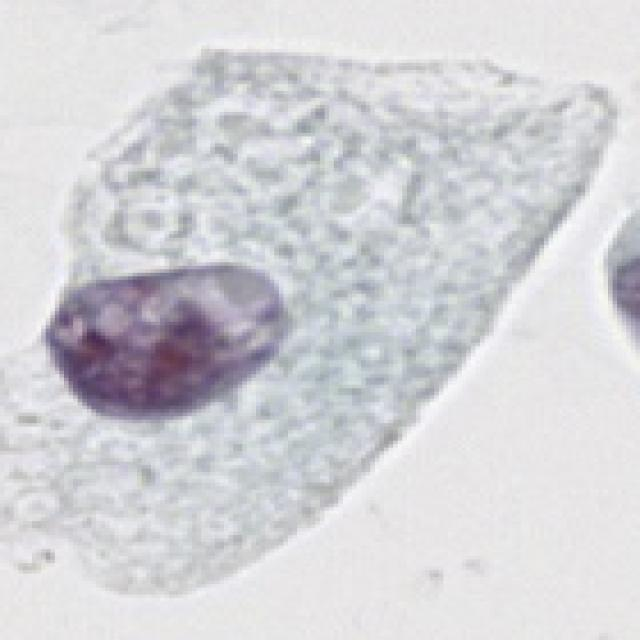nucleus: (32, 248, 313, 438)
